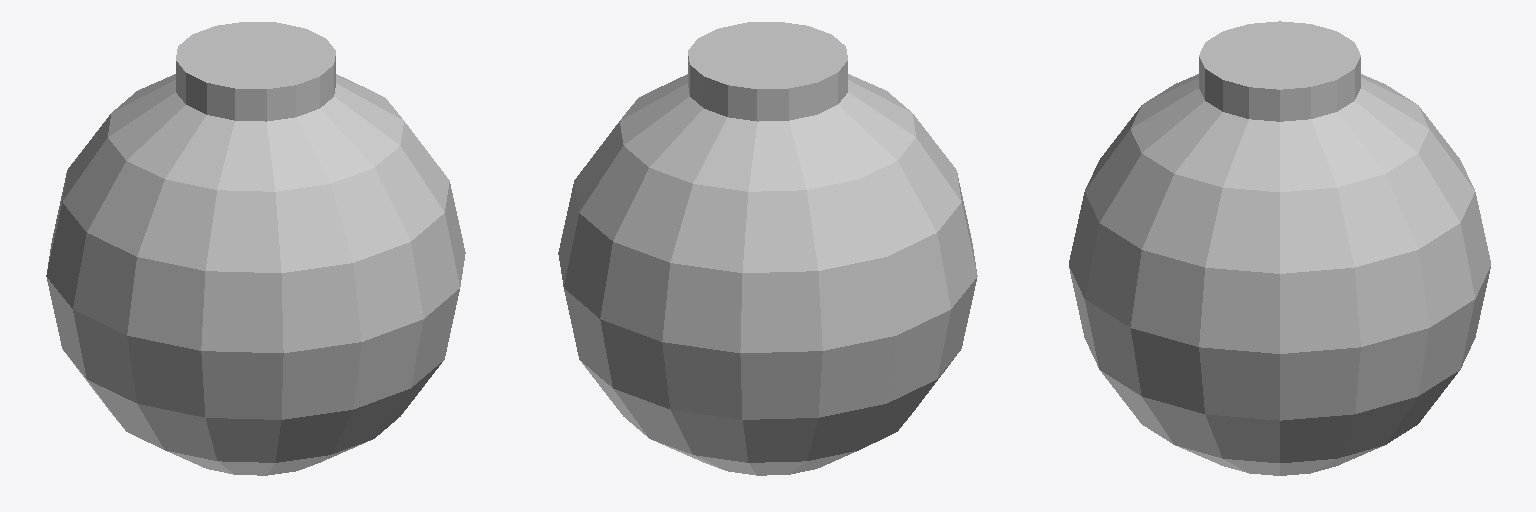
Rendered from bomba.obj.
3 views of the same model, side by side, from view 1: azimuth 30°, elevation 25°; view 2: azimuth 150°, elevation 25°; view 3: azimuth 270°, elevation 25° (orthographic).
Parts seen in each view (by area): view 1: Sphere_Sphere.002; view 2: Sphere_Sphere.002; view 3: Sphere_Sphere.002.
Part boxes in pixels (x1,y1,x2,y2): Sphere_Sphere.002: (46, 22, 465, 475); Sphere_Sphere.002: (558, 22, 977, 475); Sphere_Sphere.002: (1069, 21, 1490, 475).
Bounding box in the file's own units: 2.64 × 2.76 × 2.64.